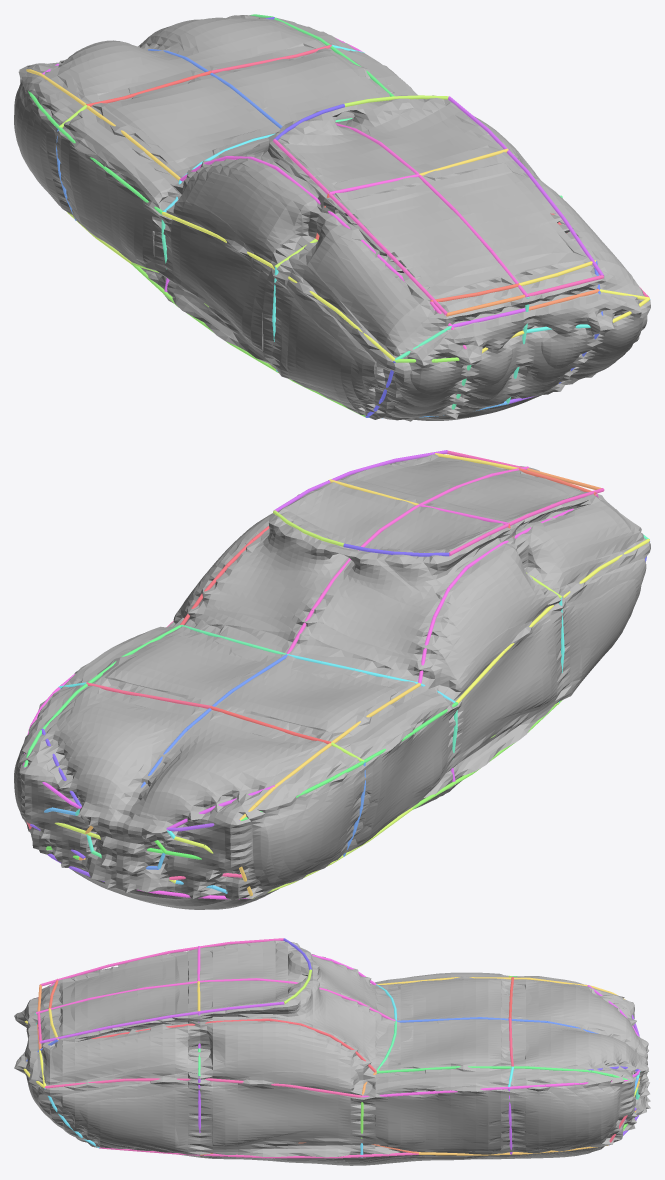
File: ils_car2.gltf
3 views of the same model, one above another, from view 1: azimuth 30°, elevation 25°; view 2: azimuth 150°, elevation 25°; view 3: azimuth 270°, elevation 25° (orthographic). The views are drawn at different scales.
Bounding box in the file's own units: 0.3953 × 0.2753 × 0.9217.
